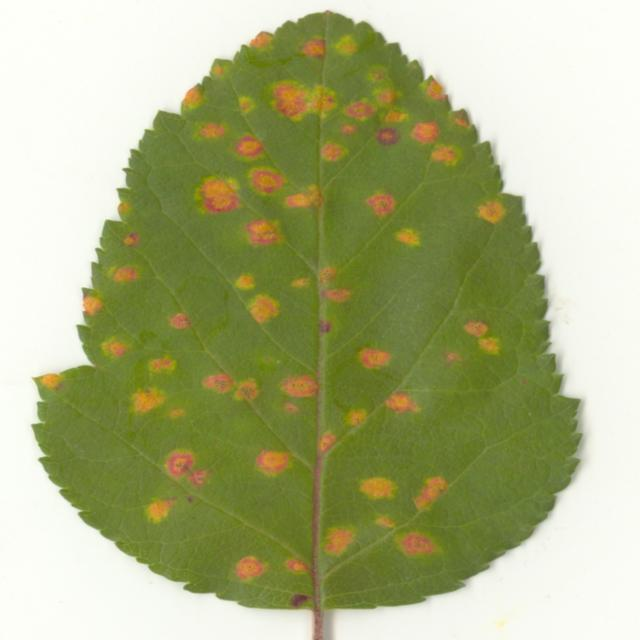Gymnosporangium_Rusts: (0, 12, 605, 620)
